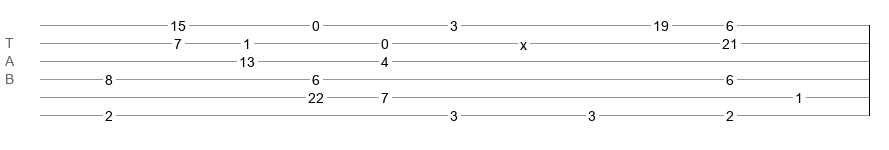0: (312, 18, 320, 28), (381, 36, 389, 46)
1: (243, 36, 251, 46), (795, 90, 803, 100)
13: (239, 54, 255, 64)
15: (170, 18, 186, 28)
19: (653, 18, 669, 28)
2: (105, 108, 113, 118), (726, 108, 734, 118)
21: (722, 36, 738, 46)
22: (308, 90, 324, 100)
3: (450, 108, 458, 118), (450, 18, 458, 28), (588, 108, 596, 118)
4: (381, 54, 389, 64)
6: (312, 72, 320, 82), (726, 18, 734, 28), (726, 72, 734, 82)
7: (174, 36, 182, 46), (381, 90, 389, 100)
8: (105, 72, 113, 82)
x: (520, 37, 527, 45)
